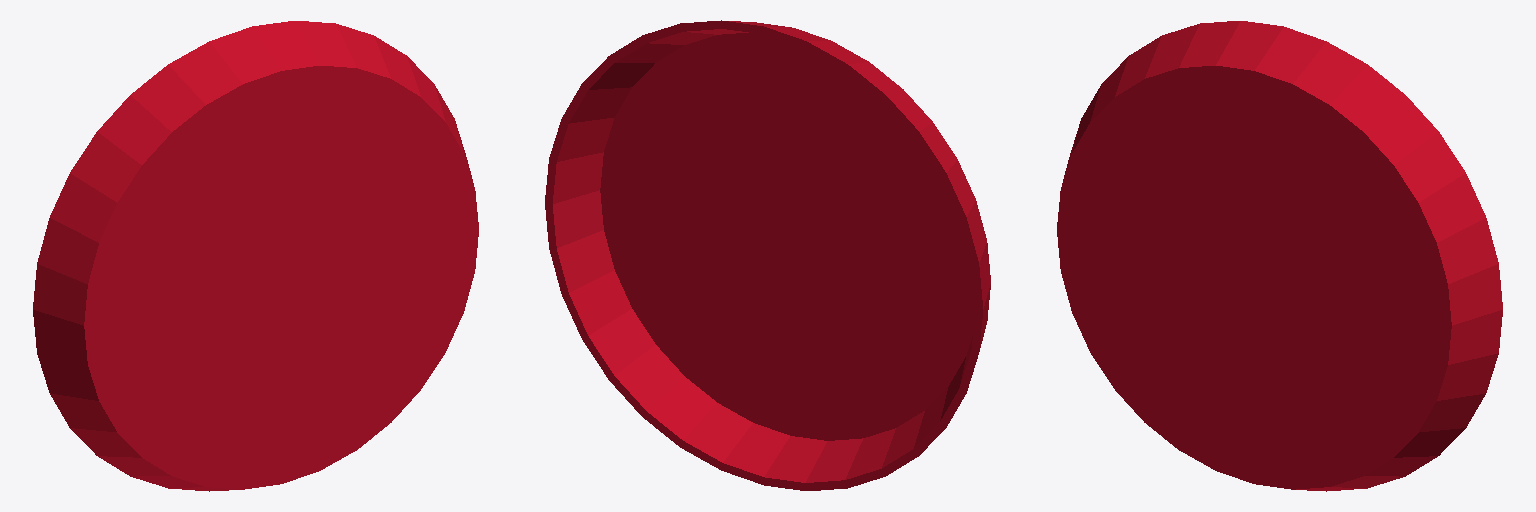
robot.urdf — ring:
<?xml version="0.0" ?>
<robot name="ring">
    <material name="red">
        <color rgba="0.8 0.1 0.2 1"/>
    </material>
    <material name="BLUE">
        <color rgba="0.68 1.00 0.80 0.9"/>
    </material>
    <link name="baseLink">
        <!-- from lego/lego.urdf -->
        <contact>
            <lateral_friction value="1.0"/>
            <rolling_friction value="0.0"/>
            <contact_cfm value="0.0"/>
            <contact_erp value="1.0"/>
        </contact>
        <inertial>
            <origin rpy="0 0 0" xyz="0 0 0"/>
            <mass value="5.01"/>
            <inertia ixx="1" ixy="0" ixz="0" iyy="1" iyz="0" izz="1"/>
        </inertial>
        <visual>
            <origin rpy="0 0 0" xyz="0 0 0"/>
            <geometry>
                <!--        radius: 10mm, depth: 14.5mm-->
                <mesh filename="meshes/pot.obj" scale="0.1 0.1 0.1"/>
                <!--        <box size="0.002 0.002 0.002"/>-->
            </geometry>
            <material name="red"/>
        </visual>
        <collision>
            <origin rpy="0 0 0" xyz="0 0 0"/>
            <geometry>
                <mesh filename="meshes/pot_vhacd.obj" scale="0.1 0.1 0.1"/>
                <!--        <box size="0.002 0.002 0.002"/>-->
            </geometry>
        </collision>
    </link>

    <!-- <link name="waypoint0">
        <inertial>
            <origin rpy="0 0 0" xyz="0 0 0"/>
            <mass value="0.0"/>
            <inertia ixx="0." ixy="0" ixz="0" iyy="0." iyz="0" izz="0."/>
        </inertial>
        <visual>
            <origin rpy="0 0 0" xyz="0 0 0"/>
            <geometry>
                <sphere radius="0.002"/>
            </geometry>
            <material name="BLUE"/>
        </visual>
    </link>

    <joint name="waypoint_joint_0" type="fixed">
        <parent link="baseLink"/>
        <child link="waypoint0"/>
        <origin rpy="0 0 0" xyz="0 0. 0"/>
    </joint> -->

</robot>

--- What the picture shows (computed from the rendered views, not written in the file) ---
The picture shows the robot from 3 angles, left to right: view 1: azimuth 30°, elevation 25°; view 2: azimuth 150°, elevation 25°; view 3: azimuth 330°, elevation 25°; orthographic projection.
Model ring with 1 links and 0 joints (none), rooted at baseLink, posed every joint at zero.
Links seen in each view (by area): view 1: baseLink; view 2: baseLink; view 3: baseLink.
Link boxes in pixels (x1=…): baseLink: x1=33, y1=21, x2=478, y2=491; baseLink: x1=545, y1=20, x2=990, y2=490; baseLink: x1=1057, y1=21, x2=1502, y2=491.
Size in the robot's own frame: 0.1395 by 0.0163 by 0.1395 metres.
1 mesh visuals loaded from 1 distinct referenced files (1 OBJ).